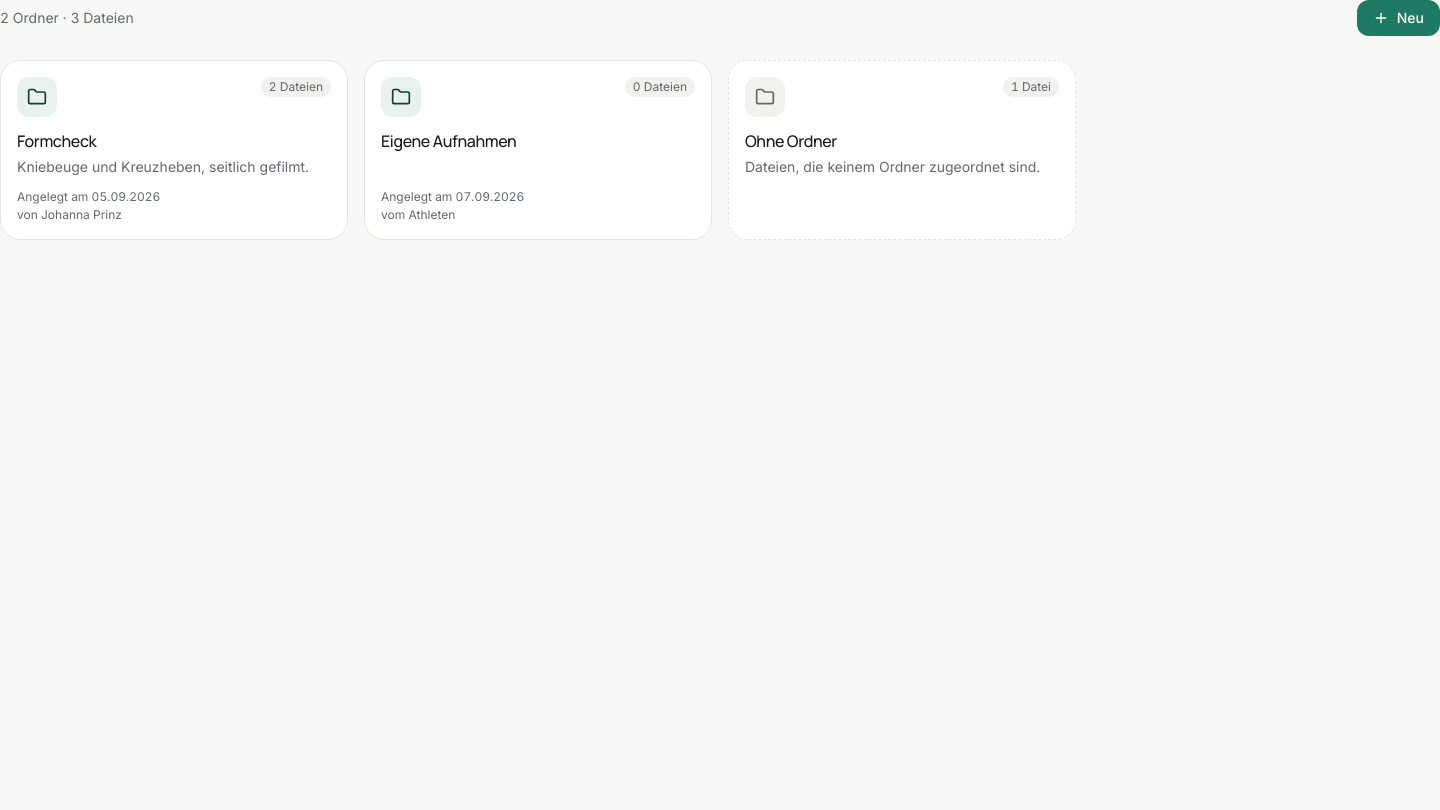
Test case: putting something here › asks first whether it is a folder or a file
The image size is (1440, 810).
Click the button "Neu" at point(1398, 18), box [1357,0,1439,36]
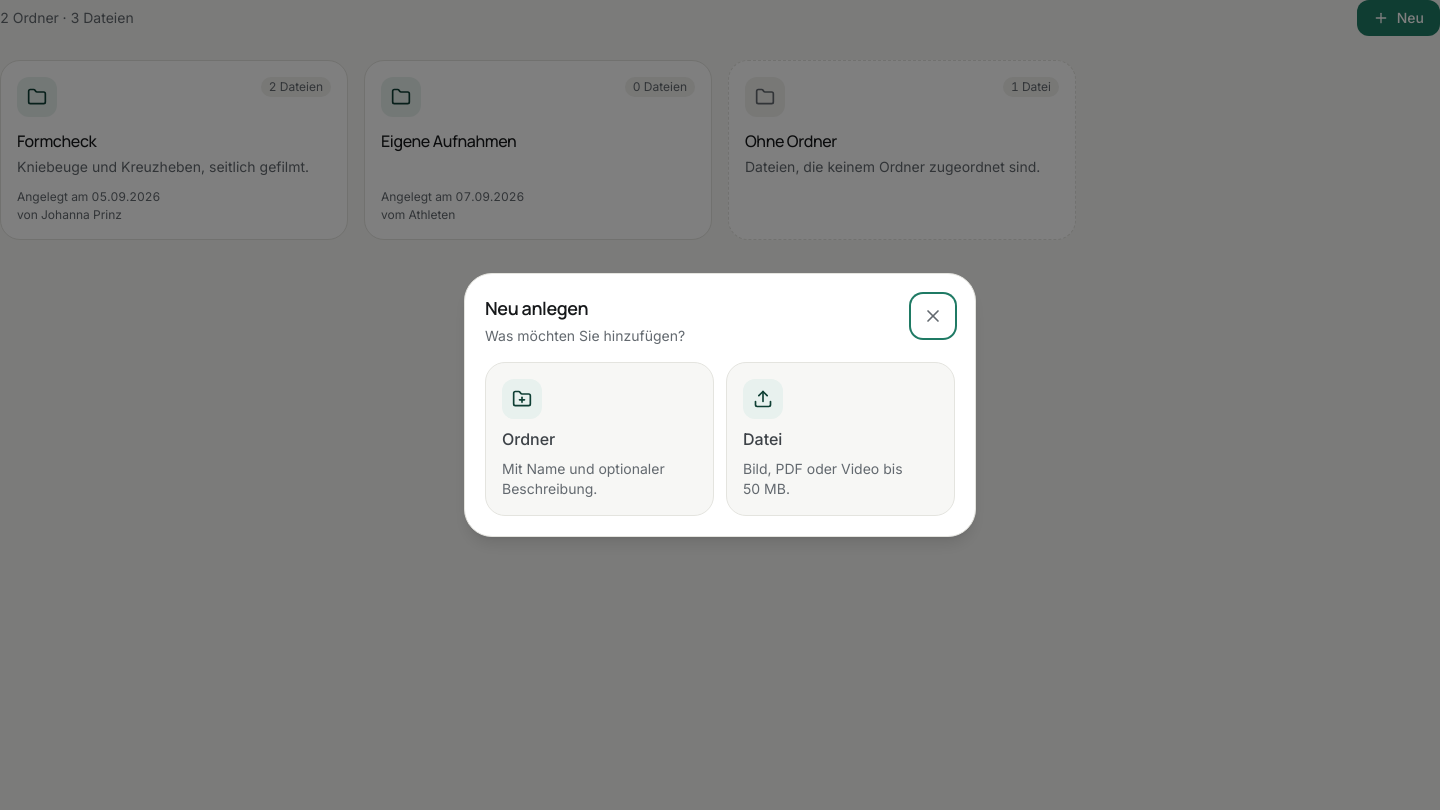
expect the button "Ordner Mit Name und optionaler Beschreibung." is shown: met, box [485,362,714,516]
expect the button "Datei Bild, PDF oder Video bis 50 MB." is shown: met, box [726,362,955,516]
